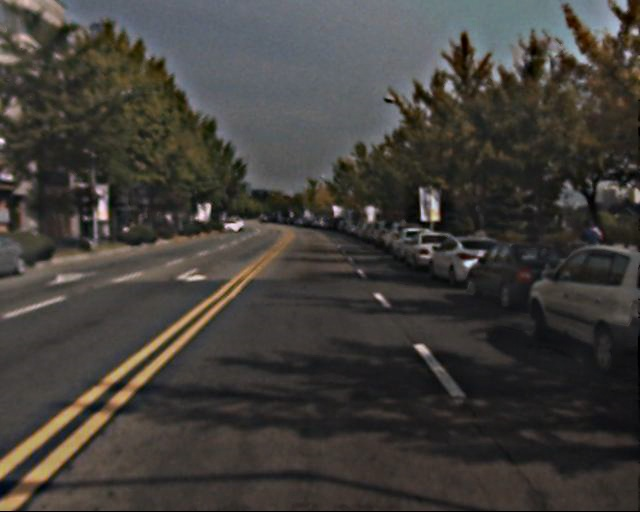person: (570, 216, 602, 274)
